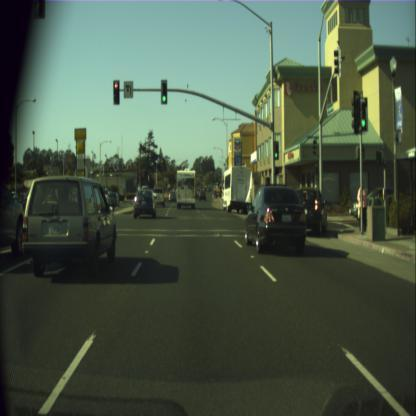Green: (359, 99, 367, 130), (160, 79, 167, 104), (274, 141, 278, 159)
RedLeft: (113, 80, 119, 104)
